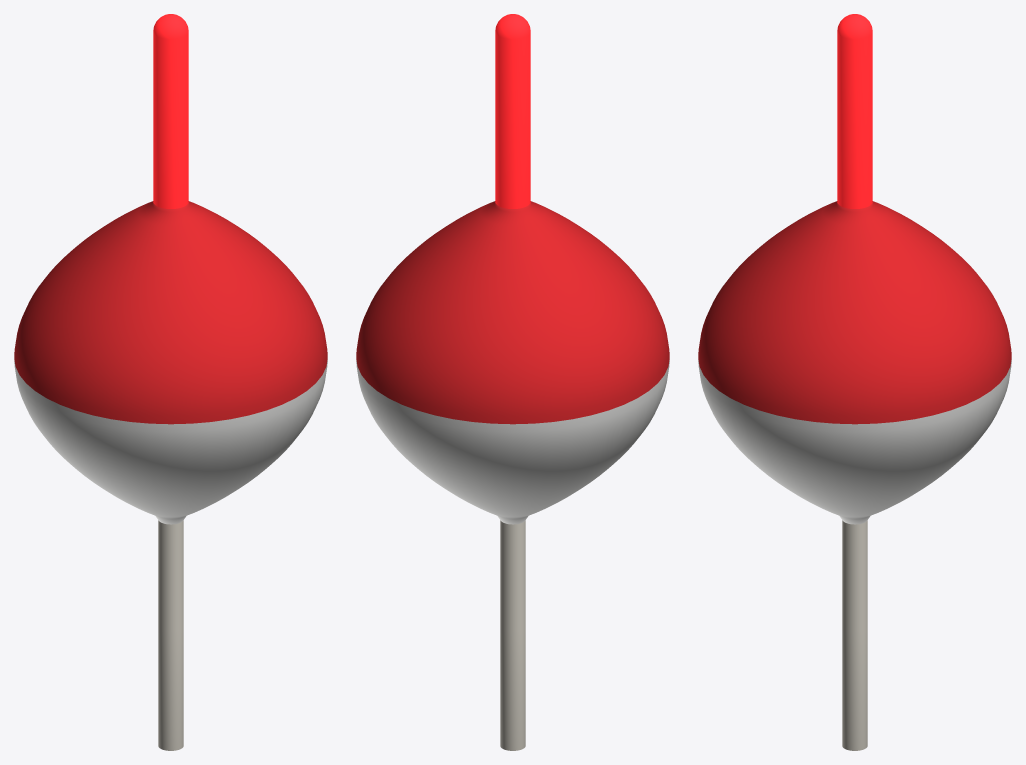
File: mayak.glb
3 views of the same model, side by side, from view 1: azimuth 30°, elevation 25°; view 2: azimuth 150°, elevation 25°; view 3: azimuth 270°, elevation 25° (orthographic).
Parts seen in each view (by area): view 1: mayak; view 2: mayak; view 3: mayak.
Boxes of the visible parts, x1=… form: mayak: x1=14, y1=14, x2=327, y2=750; mayak: x1=356, y1=14, x2=669, y2=750; mayak: x1=698, y1=14, x2=1011, y2=750.
Bounding box in the file's own units: 0.044 × 0.113 × 0.044.
